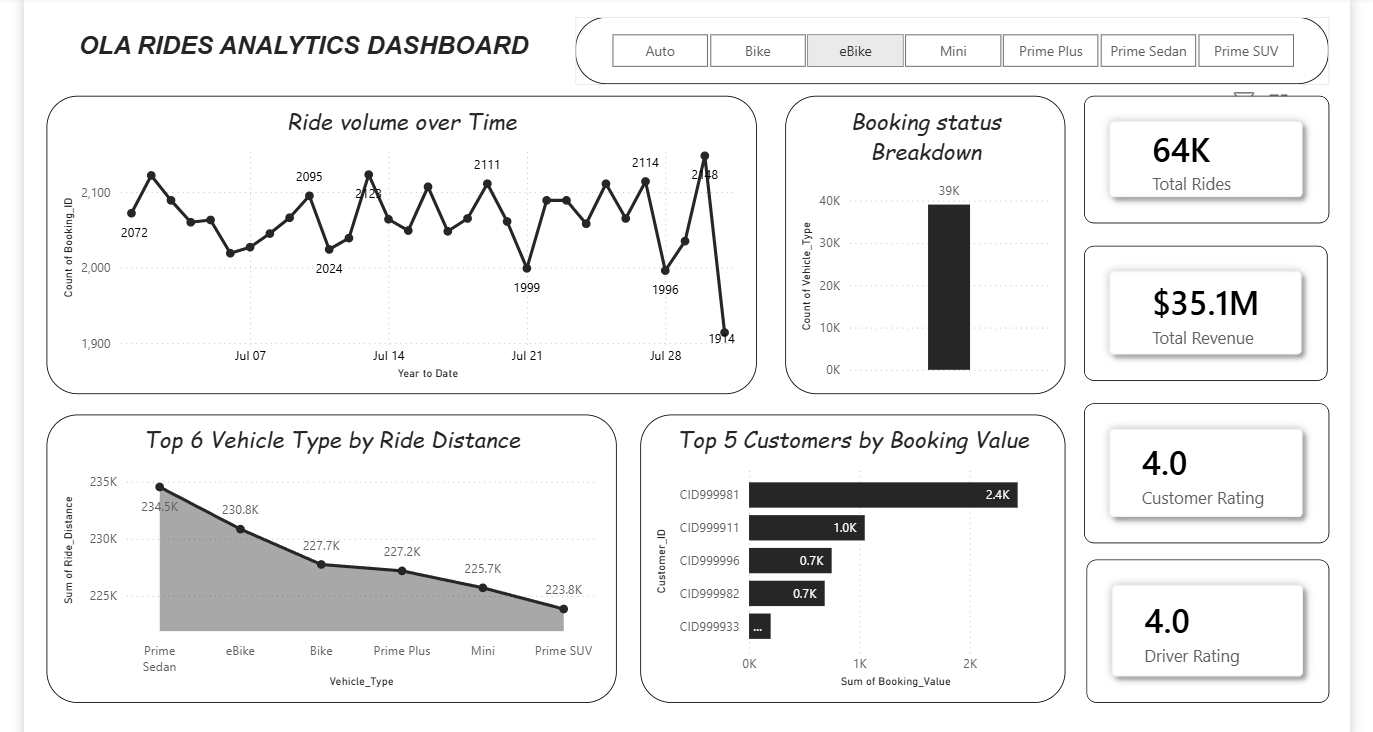

This screenshot's page, from the dashboard's own definition file:
{"tool":"powerbi","page":{"name":"Page 1","canvas":[1280,720],"ordinal":0},"visuals":[{"type":"textbox","box":[21.7,29,495.8,47.1],"z":0},{"type":"slicer","fields":{"Values":["Sheet1.Vehicle_Type"]},"box":[532,19.3,727.5,65.1],"z":2000},{"type":"cardVisual","fields":{"Data":["OLA_Cancel_data.Total Rides"]},"box":[1023.1,95.3,236.5,123.1],"z":5000},{"type":"cardVisual","fields":{"Data":["OLA_Cancel_data.Total Revenue"]},"box":[1023.1,240.1,235.3,130.3],"z":6000},{"type":"cardVisual","fields":{"Data":["OLA_Cancel_data.Customer Rating"]},"box":[1023.1,392.1,236.5,135.1],"z":7000},{"type":"cardVisual","fields":{"Data":["OLA_Cancel_data.Driver Rating"]},"box":[1025.5,542.9,234,138.7],"z":8000},{"type":"lineChart","title":"Ride volume over Time","fields":{"Y":["CountNonNull(Sheet1.Booking_ID)"],"Category":["Sheet1.Date.Variation.Date Hierarchy.Year","Sheet1.Date.Variation.Date Hierarchy.Month","Sheet1.Date.Variation.Date Hierarchy.Day"]},"box":[21.7,95.3,685.3,288.3],"z":9000},{"type":"columnChart","title":"Booking status Breakdown","fields":{"Y":["CountNonNull(OLA_Cancel_data.Vehicle_Type)"]},"box":[734.7,95.3,270.2,288.3],"z":10000},{"type":"areaChart","title":"Top 6 Vehicle Type by Ride Distance","fields":{"Category":["Sheet1.Vehicle_Type"],"Y":["Sum(Sheet1.Ride_Distance)"]},"box":[21.7,403,550.1,278.7],"z":11000},{"type":"barChart","title":"Top 5 Customers by Booking Value","fields":{"Y":["Sum(Sheet1.Booking_Value)"],"Category":["Sheet1.Customer_ID"]},"box":[594.8,403,410.2,278.7],"z":12000}]}

Visuals, with their boxes on the page's 1280x720 design canvas (x1, y1, x2, y2). These are canvas units, not pixel positions in the 1373x732 screenshot, which may show the page scaled, cropped or inside an application window:
textbox: region(22, 29, 518, 76)
slicer - Sheet1.Vehicle_Type: region(532, 19, 1260, 84)
cardVisual - OLA_Cancel_data.Total Rides: region(1023, 95, 1260, 218)
cardVisual - OLA_Cancel_data.Total Revenue: region(1023, 240, 1258, 370)
cardVisual - OLA_Cancel_data.Customer Rating: region(1023, 392, 1260, 527)
cardVisual - OLA_Cancel_data.Driver Rating: region(1026, 543, 1260, 682)
"Ride volume over Time" lineChart: region(22, 95, 707, 384)
"Booking status Breakdown" columnChart: region(735, 95, 1005, 384)
"Top 6 Vehicle Type by Ride Distance" areaChart: region(22, 403, 572, 682)
"Top 5 Customers by Booking Value" barChart: region(595, 403, 1005, 682)
